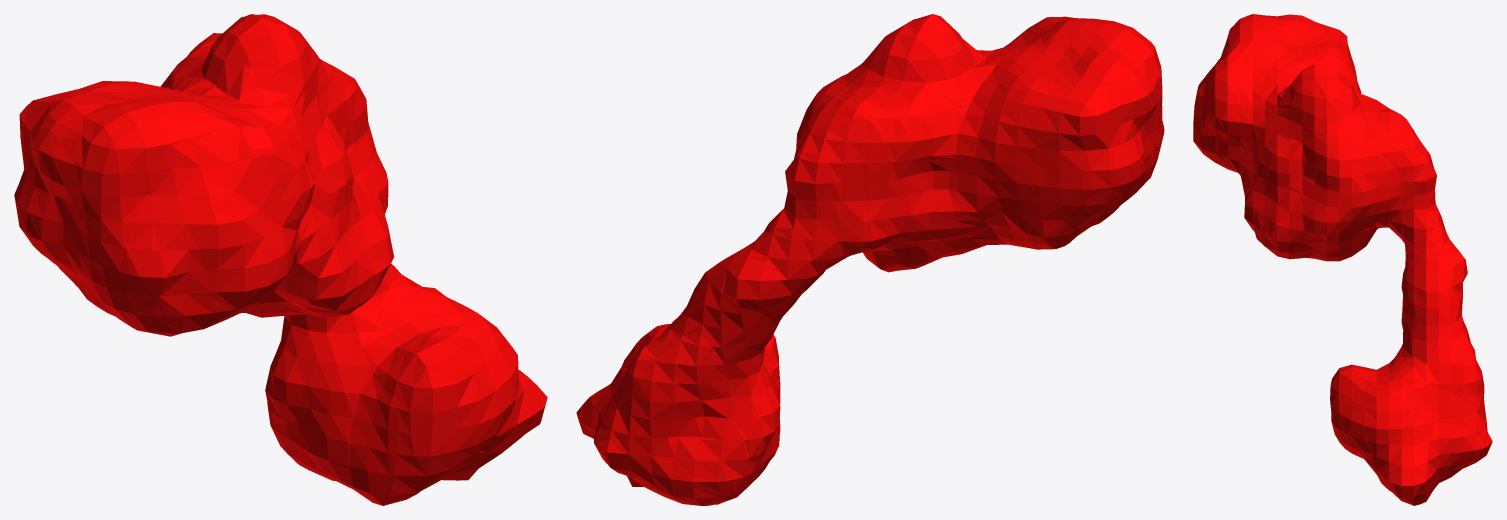
File: cbl_coarse.dae
The picture shows the model from 3 angles, left to right: view 1: azimuth 30°, elevation 25°; view 2: azimuth 150°, elevation 25°; view 3: azimuth 270°, elevation 25°; orthographic projection. The views are drawn at different scales.
Parts seen in each view (by area): view 1: cbl; view 2: cbl; view 3: cbl.
Part boxes in pixels (bbox=[...]): cbl: bbox=[14, 14, 547, 505]; cbl: bbox=[576, 14, 1164, 505]; cbl: bbox=[1193, 14, 1492, 505].
Size of the model in its own units: 88.94 by 83.1 by 62.78.
